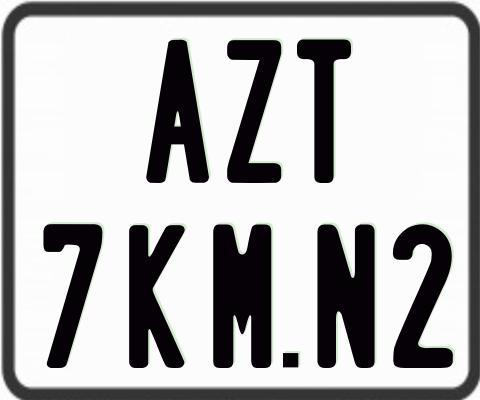2: (391, 222, 456, 372)
7: (40, 224, 102, 371)
A: (146, 37, 213, 186)
K: (128, 223, 186, 369)
M: (210, 221, 270, 370)
N: (314, 222, 378, 368)
T: (295, 38, 354, 187)
Z: (224, 40, 279, 188)
